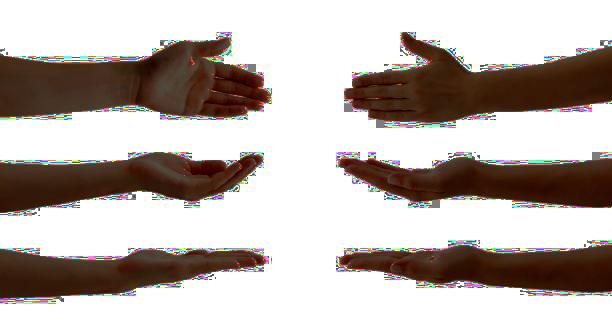Paper: (342, 31, 470, 124), (137, 34, 269, 119), (339, 240, 474, 289), (122, 243, 265, 289)
